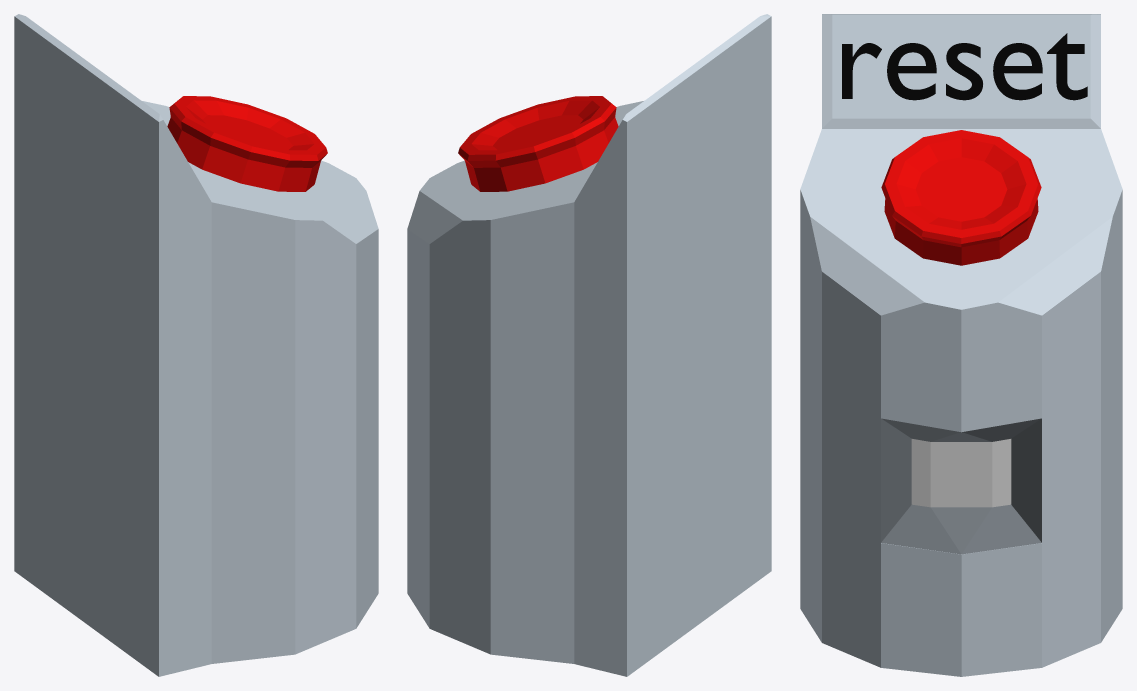
File: button.fbx
3 views of the same model, side by side, from view 1: azimuth 30°, elevation 25°; view 2: azimuth 150°, elevation 25°; view 3: azimuth 270°, elevation 25° (orthographic). The views are drawn at different scales.
Visible parts, largest first — view 1: Cylinder, Cylinder.001; view 2: Cylinder, Cylinder.001; view 3: Cylinder, Cylinder.001, Text.
Boxes of the visible parts, <box> form: Cylinder: <box>14,14,378,676</box>; Cylinder.001: <box>167,96,327,191</box>; Cylinder: <box>407,14,771,676</box>; Cylinder.001: <box>458,96,618,191</box>; Cylinder: <box>800,14,1122,676</box>; Cylinder.001: <box>881,130,1041,265</box>; Text: <box>842,33,1087,100</box>.
Size of the model in its own units: 1.87 by 3.69 by 2.
